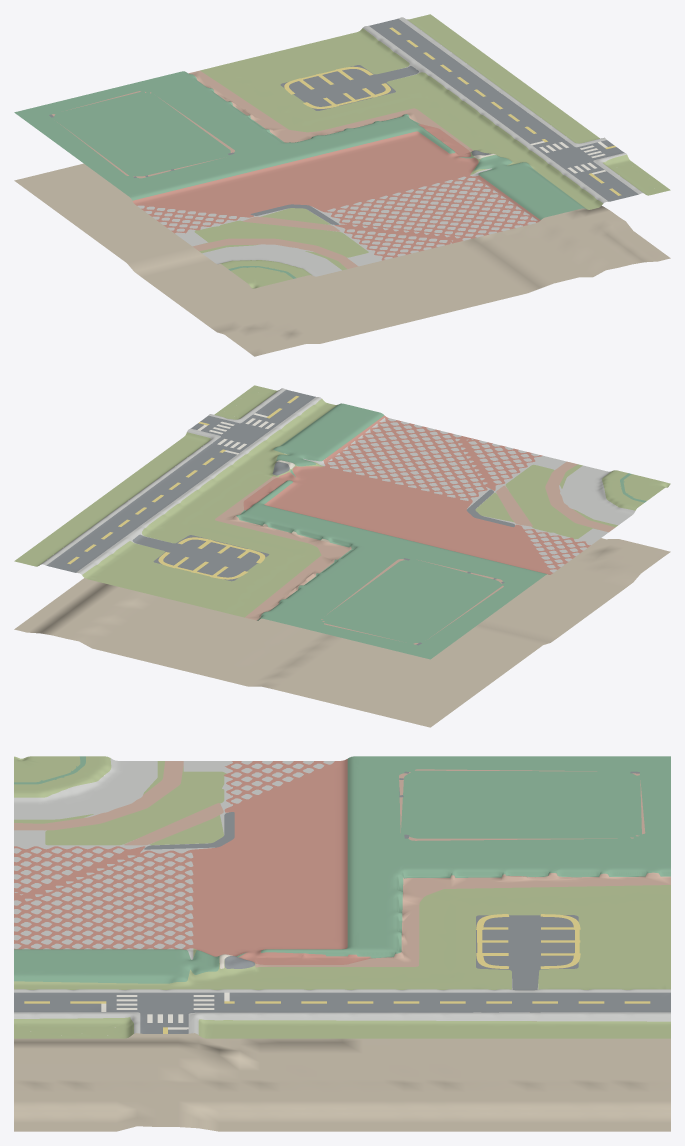
3 views of the same model, one above another, from view 1: azimuth 30°, elevation 25°; view 2: azimuth 150°, elevation 25°; view 3: azimuth 270°, elevation 25° (orthographic). The views are drawn at different scales.
Parts seen in each view (by area): view 1: s_-11_-1__soil, s_-11_-1__green_court, s_-11_-1__grass, s_-11_-1__red_court, s_-11_-1__stone_paving, s_-11_-1__asphalt, s_-11_-1__brick_paving, s_-11_-1__yellow_marking; view 2: s_-11_-1__soil, s_-11_-1__grass, s_-11_-1__green_court, s_-11_-1__red_court, s_-11_-1__stone_paving, s_-11_-1__asphalt, s_-11_-1__brick_paving, s_-11_-1__yellow_marking; view 3: s_-11_-1__soil, s_-11_-1__green_court, s_-11_-1__grass, s_-11_-1__red_court, s_-11_-1__stone_paving, s_-11_-1__asphalt, s_-11_-1__brick_paving, s_-11_-1__yellow_marking, s_-11_-1__white_marking.
Boxes of the visible parts, box(x1,y1,x2,y2) form: s_-11_-1__soil: box(14, 163, 670, 356); s_-11_-1__green_court: box(14, 71, 585, 278); s_-11_-1__grass: box(194, 14, 670, 288); s_-11_-1__red_court: box(132, 124, 540, 260); s_-11_-1__stone_paving: box(137, 17, 643, 276); s_-11_-1__asphalt: box(49, 18, 638, 224); s_-11_-1__brick_paving: box(52, 70, 473, 268); s_-11_-1__yellow_marking: box(284, 27, 621, 195); s_-11_-1__soil: box(14, 466, 670, 727); s_-11_-1__grass: box(14, 385, 670, 617); s_-11_-1__green_court: box(236, 403, 646, 659); s_-11_-1__red_court: box(243, 415, 590, 574); s_-11_-1__stone_paving: box(39, 388, 635, 574); s_-11_-1__asphalt: box(46, 389, 514, 645); s_-11_-1__brick_paving: box(215, 461, 615, 644); s_-11_-1__yellow_marking: box(67, 396, 298, 579); s_-11_-1__soil: box(14, 872, 670, 1131); s_-11_-1__green_court: box(14, 756, 670, 983); s_-11_-1__grass: box(14, 756, 670, 1038); s_-11_-1__red_court: box(14, 759, 372, 964); s_-11_-1__stone_paving: box(14, 758, 670, 1034); s_-11_-1__asphalt: box(14, 771, 670, 1033); s_-11_-1__brick_paving: box(14, 761, 670, 967); s_-11_-1__yellow_marking: box(24, 914, 650, 1033); s_-11_-1__white_marking: box(101, 992, 229, 1029).
Bounding box in the file's own units: 128 × 21.83 × 128.
